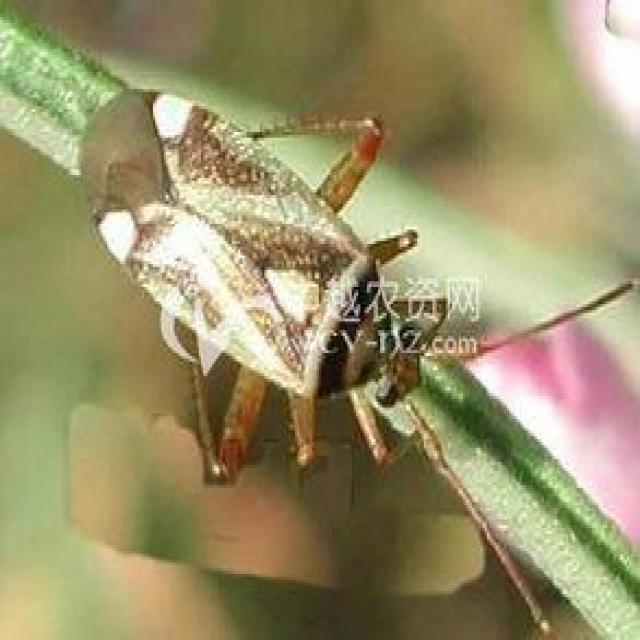Miridae-Adult-: (69, 63, 528, 504)
